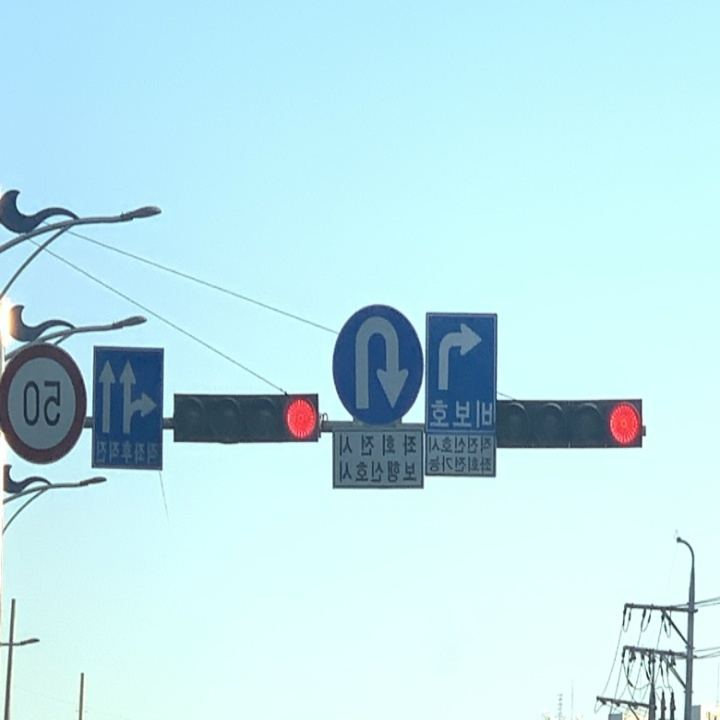right: (432, 319, 488, 399)
